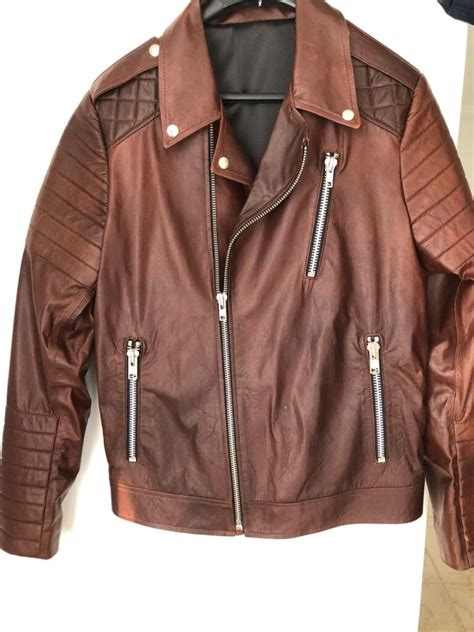cuero: (2, 1, 474, 571)
